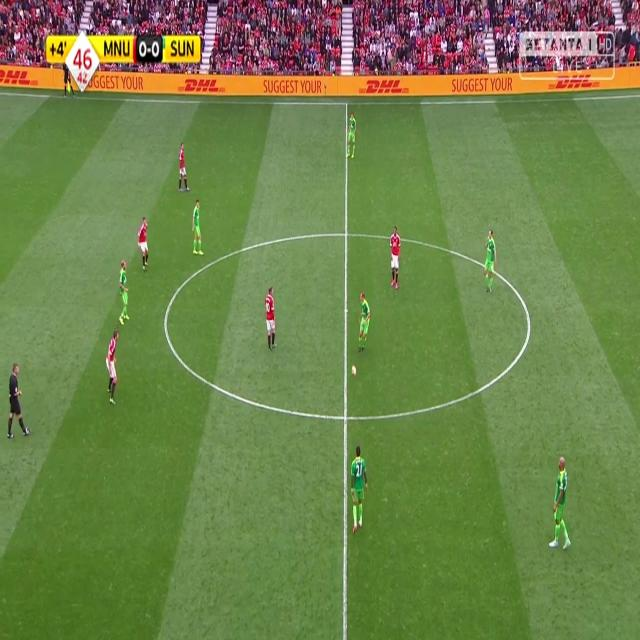Ball: (350, 363, 358, 378)
Player: (548, 452, 576, 555), (348, 444, 370, 540), (105, 331, 120, 412), (482, 226, 499, 296), (116, 259, 131, 328), (357, 290, 372, 356), (264, 286, 278, 356), (389, 226, 402, 296), (190, 197, 204, 260), (344, 111, 358, 165), (136, 216, 149, 273), (177, 140, 190, 190)
Referee: (5, 360, 30, 444), (60, 60, 75, 99)
